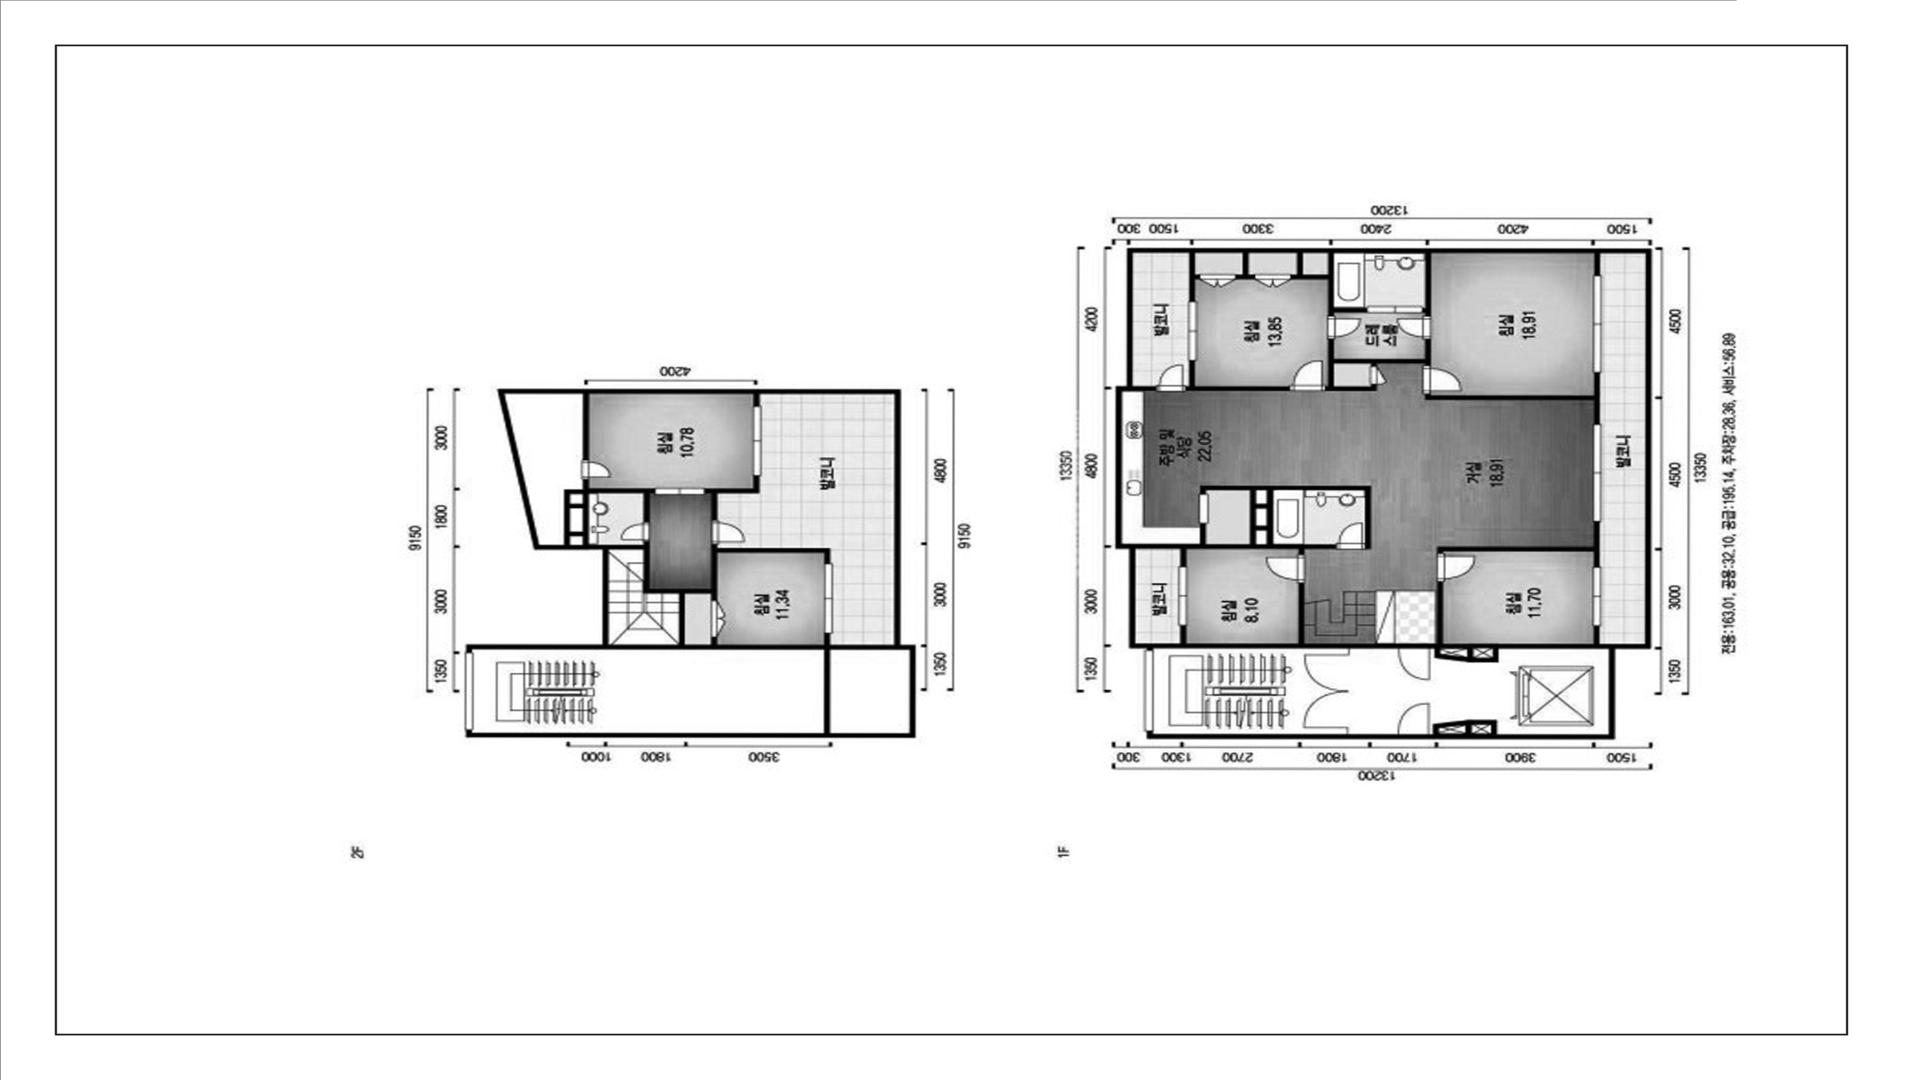door: (1290, 360, 1326, 392), (1265, 555, 1306, 583), (1436, 553, 1475, 582), (1423, 366, 1462, 394), (1397, 649, 1430, 680), (1397, 703, 1430, 734), (710, 520, 747, 544), (1156, 364, 1186, 392), (1396, 316, 1432, 339), (1327, 316, 1363, 339), (1337, 522, 1365, 550), (580, 459, 612, 479), (620, 522, 650, 542), (1367, 305, 1423, 314), (654, 488, 705, 495), (1370, 366, 1387, 384), (1198, 494, 1208, 524)
wall: (1115, 248, 1652, 740), (465, 388, 916, 738), (609, 542, 831, 644), (1135, 485, 1337, 566), (1425, 373, 1600, 424), (1256, 485, 1372, 550), (1436, 522, 1600, 567), (563, 480, 654, 545), (1326, 339, 1432, 392), (1291, 253, 1367, 316), (1186, 361, 1290, 392), (705, 476, 760, 520), (1433, 719, 1498, 734), (570, 494, 589, 545), (1434, 649, 1499, 663), (823, 650, 831, 733), (1423, 253, 1432, 316), (1435, 582, 1444, 643), (1235, 253, 1255, 280), (1189, 253, 1200, 301), (582, 394, 590, 459), (1298, 583, 1305, 643), (1593, 254, 1601, 275), (1132, 386, 1156, 392), (1179, 626, 1187, 643), (1593, 626, 1600, 644), (752, 394, 760, 406), (823, 633, 831, 644), (711, 637, 718, 644)
window: (1592, 275, 1602, 373), (1592, 424, 1602, 522), (752, 406, 762, 476), (465, 653, 474, 730), (824, 563, 833, 633), (1187, 302, 1197, 361), (1178, 567, 1188, 626), (1592, 567, 1601, 626)
